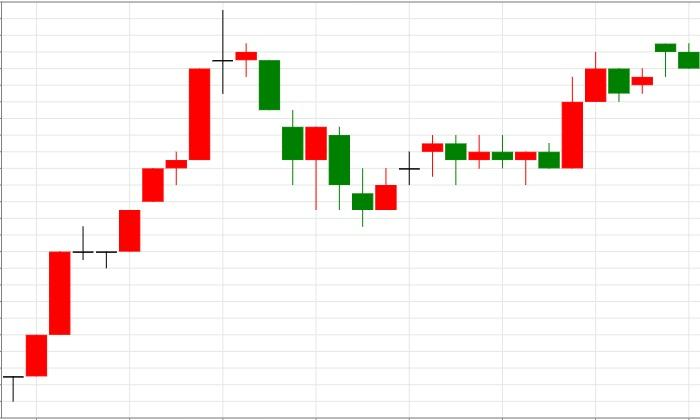hammer_rise: (212, 10, 327, 209)
